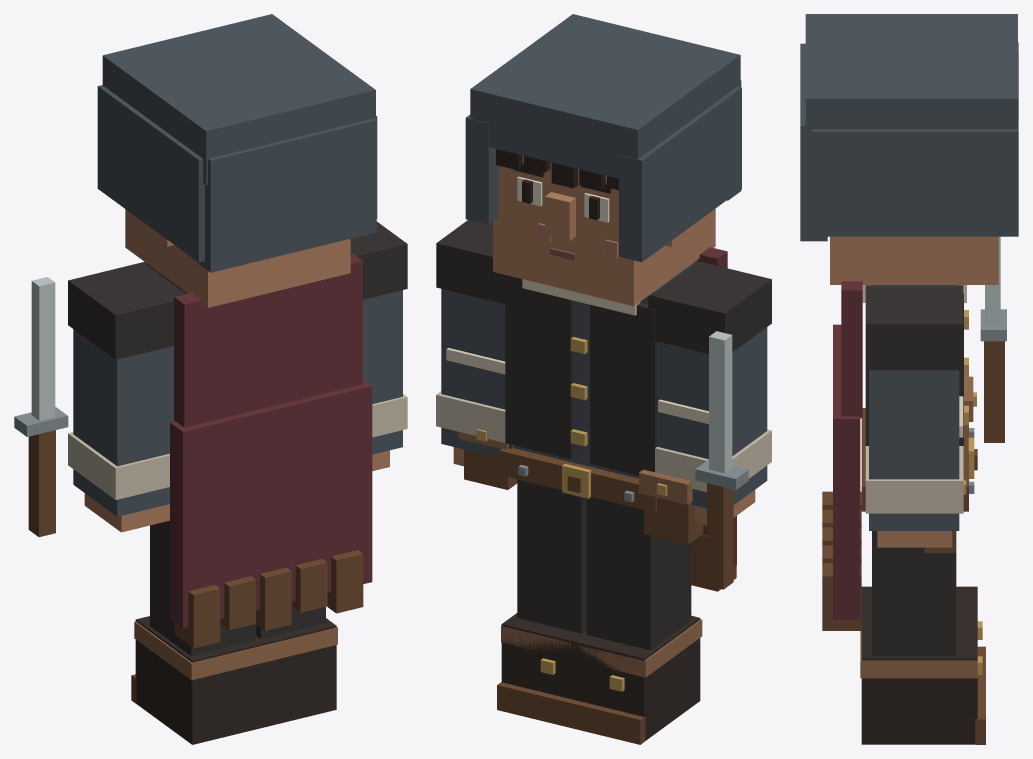
File: pickpocket.obj
The picture shows the model from 3 angles, left to right: view 1: azimuth 30°, elevation 25°; view 2: azimuth 150°, elevation 25°; view 3: azimuth 270°, elevation 25°; orthographic projection. The views are drawn at different scales.
Parts seen in each view (by area): view 1: equipment_back, head, right_arm, right_leg, left_arm, left_leg, equipment_right; view 2: head, body, right_leg, right_arm, left_leg, left_arm, equipment_right, equipment_back; view 3: head, left_arm, left_leg, equipment_back, equipment_right, body, right_leg.
Part boxes in pixels (x1,y1,x2,y2): equipment_back: [170, 253, 372, 648]; head: [97, 14, 377, 307]; right_arm: [68, 262, 185, 532]; right_leg: [131, 520, 268, 744]; left_arm: [350, 221, 407, 471]; left_leg: [256, 606, 337, 726]; equipment_right: [14, 277, 68, 537]; head: [465, 14, 741, 306]; body: [458, 262, 703, 544]; right_leg: [566, 497, 702, 744]; right_arm: [648, 261, 771, 525]; left_leg: [497, 479, 586, 726]; left_arm: [436, 220, 513, 466]; equipment_right: [695, 331, 748, 589]; equipment_back: [691, 247, 736, 591]; head: [800, 14, 1018, 284]; left_arm: [865, 285, 963, 547]; left_leg: [860, 531, 985, 744]; equipment_back: [822, 281, 862, 630]; equipment_right: [980, 236, 1006, 442]; body: [861, 285, 977, 552]; right_leg: [861, 586, 985, 681].
Bounding box in the file's own units: 1.14 × 2.13 × 0.6469.
